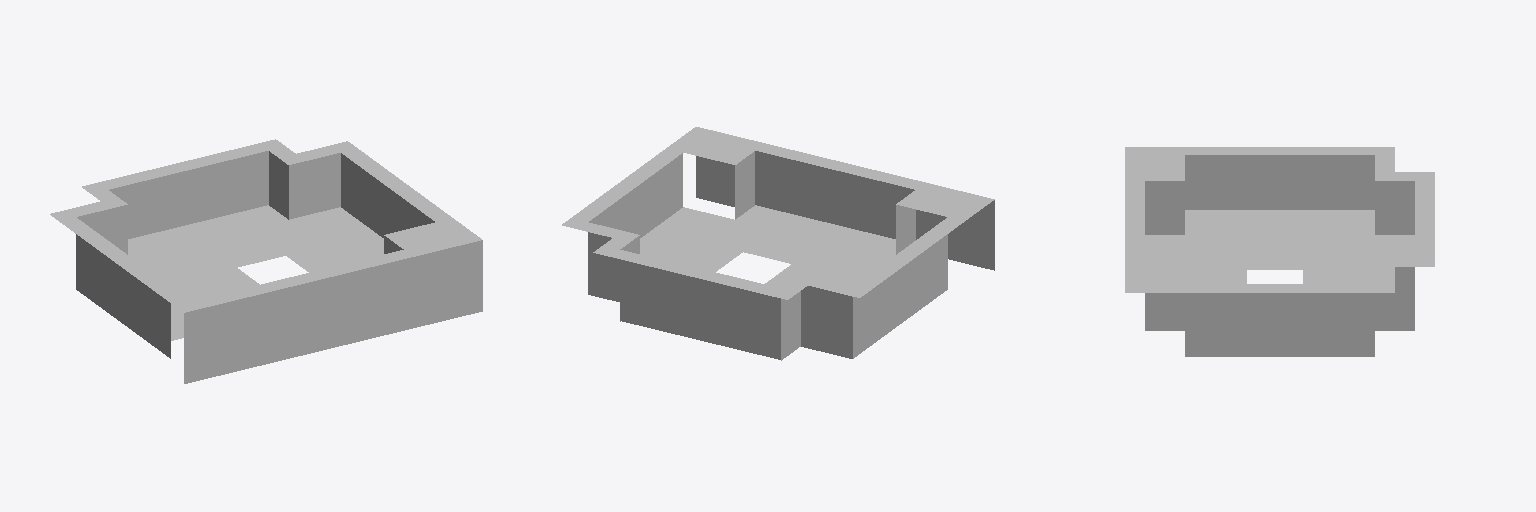
3 renders of one model, left to right at view 1: azimuth 30°, elevation 25°; view 2: azimuth 150°, elevation 25°; view 3: azimuth 270°, elevation 25°, orthographic.
Parts seen in each view (by area): view 1: polygon0, polygon3, polygon2, polygon1; view 2: polygon2, polygon0, polygon3, polygon1; view 3: polygon2, polygon3, polygon0, polygon1.
Part boxes in pixels (x1,y1,x2,y2): polygon0: (50,139,461,371); polygon3: (128,205,482,383); polygon2: (76,151,434,358); polygon1: (101,153,366,330); polygon2: (588,151,947,360); polygon0: (562,139,973,299); polygon3: (640,127,994,288); polygon1: (589,205,909,339); polygon2: (1145,155,1414,356); polygon3: (1125,147,1414,292); polygon0: (1125,147,1434,292); polygon1: (1262,155,1374,356).
Size of the model in its own units: 8.62 by 2 by 7.75.